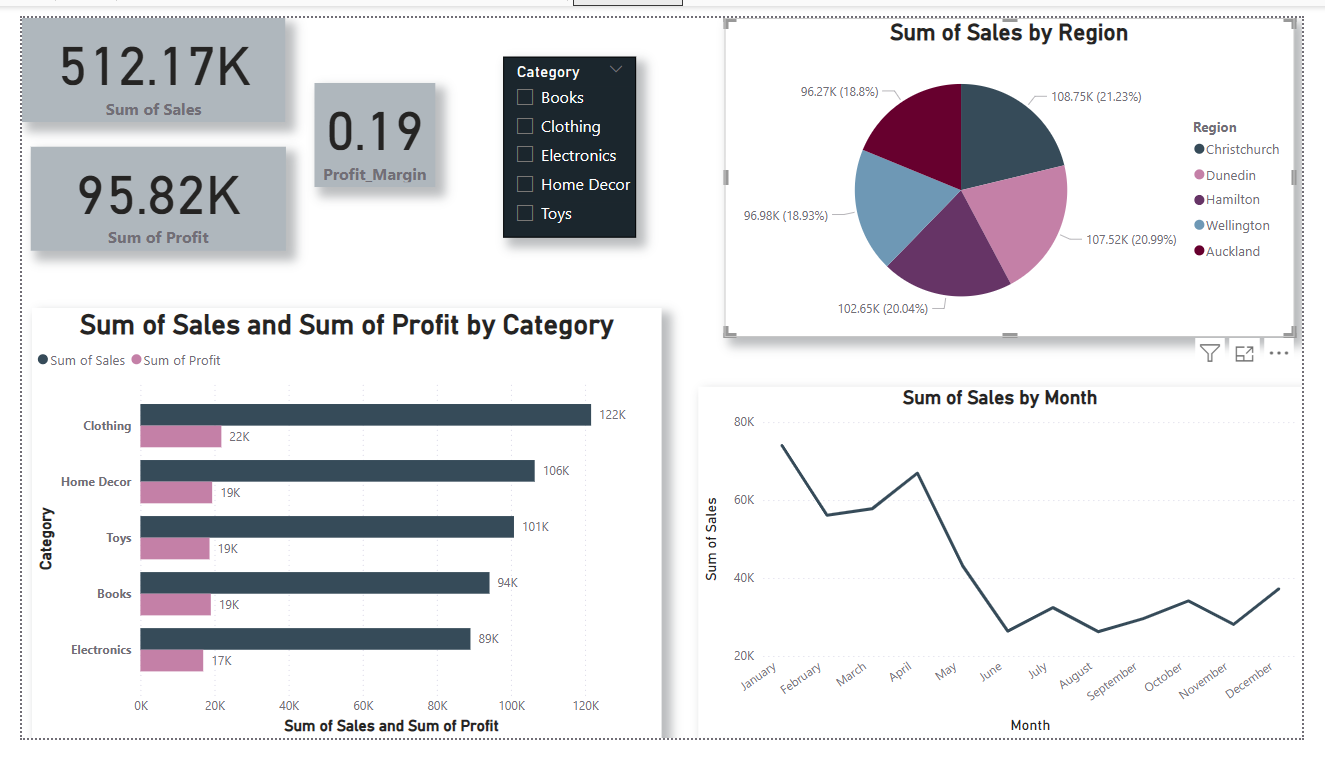

What the dashboard file says about the page in this screenshot:
{"tool":"powerbi","page":{"name":"Page 1","canvas":[1280,720],"ordinal":0},"visuals":[{"type":"card","fields":{"Values":["Sum(New_Zealand_Sales_and_Profit_Dataset.Sales)"]},"box":[0,0,263.5,104.3],"z":0},{"type":"card","fields":{"Values":["Sum(New_Zealand_Sales_and_Profit_Dataset.Profit)"]},"box":[8.2,129,255.2,104.3],"z":1000},{"type":"card","fields":{"Values":["New_Zealand_Sales_and_Profit_Dataset.Profit_Margin"]},"box":[292.3,64.5,120.8,104.3],"z":2000},{"type":"clusteredBarChart","fields":{"Category":["New_Zealand_Sales_and_Profit_Dataset.Category"],"Y":["Sum(New_Zealand_Sales_and_Profit_Dataset.Sales)","Sum(New_Zealand_Sales_and_Profit_Dataset.Profit)"]},"box":[9.6,289.5,629.8,430.9],"z":3000},{"type":"pieChart","fields":{"Category":["New_Zealand_Sales_and_Profit_Dataset.Region"],"Y":["Sum(New_Zealand_Sales_and_Profit_Dataset.Sales)"]},"box":[702.6,0,569.5,318.4],"z":4000},{"type":"lineChart","fields":{"Category":["New_Zealand_Sales_and_Profit_Dataset.Order_Date.Variation.Date Hierarchy.Month"],"Y":["Sum(New_Zealand_Sales_and_Profit_Dataset.Sales)"]},"box":[676.5,369.1,603.8,351.3],"z":5000},{"type":"slicer","fields":{"Values":["New_Zealand_Sales_and_Profit_Dataset.Category"]},"box":[481.6,38.4,133.1,181.1],"z":5001}]}

Visuals, with their boxes in screenshot pixels (x1, y1, x2, y2), scaled from the page's 1280x720 canvas onto the 1325x764 screenshot:
card - Sum(New_Zealand_Sales_and_Profit_Dataset.Sales): <bbox>0, 0, 273, 111</bbox>
card - Sum(New_Zealand_Sales_and_Profit_Dataset.Profit): <bbox>8, 137, 273, 248</bbox>
card - New_Zealand_Sales_and_Profit_Dataset.Profit_Margin: <bbox>303, 68, 428, 179</bbox>
clusteredBarChart - New_Zealand_Sales_and_Profit_Dataset.Category x Sum(New_Zealand_Sales_and_Profit_Dataset.Sales): <bbox>10, 307, 662, 763</bbox>
pieChart - New_Zealand_Sales_and_Profit_Dataset.Region x Sum(New_Zealand_Sales_and_Profit_Dataset.Sales): <bbox>727, 0, 1317, 338</bbox>
lineChart - New_Zealand_Sales_and_Profit_Dataset.Order_Date.Variation.Date Hierarchy.Month x Sum(New_Zealand_Sales_and_Profit_Dataset.Sales): <bbox>700, 392, 1324, 763</bbox>
slicer - New_Zealand_Sales_and_Profit_Dataset.Category: <bbox>499, 41, 636, 233</bbox>
